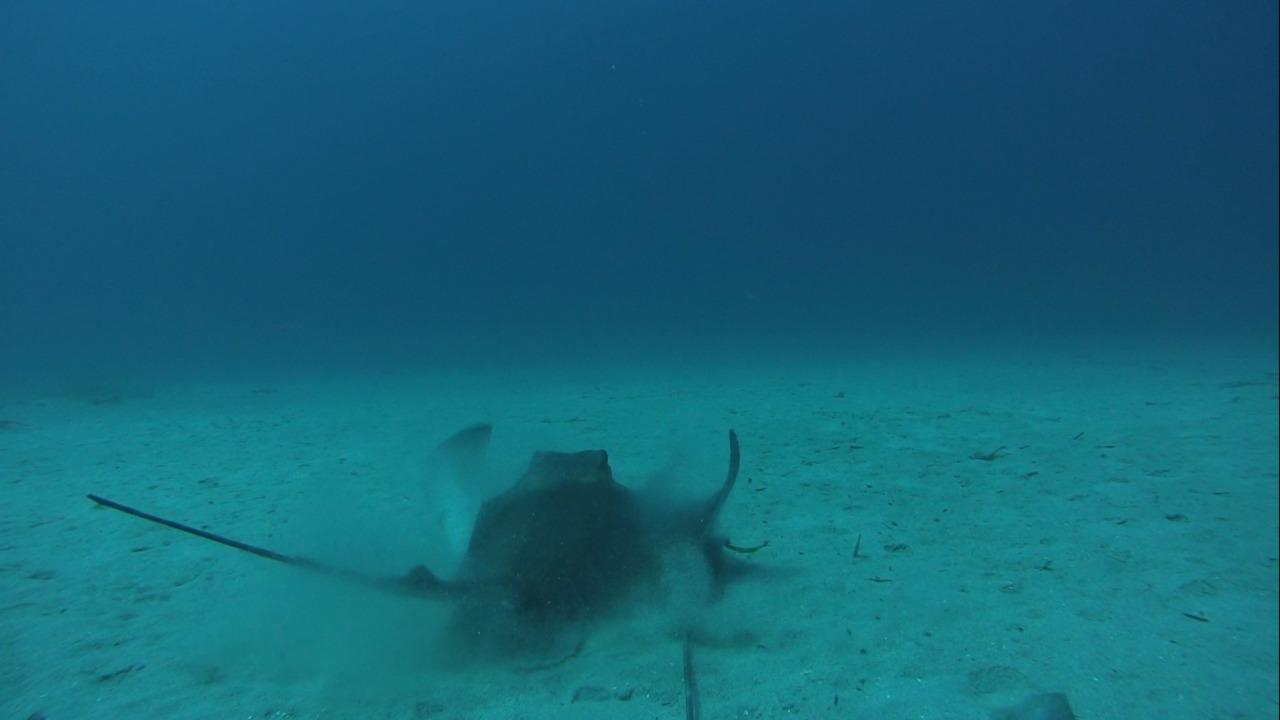myliobatis: (86, 414, 765, 638)
raor: (957, 684, 1086, 719)
